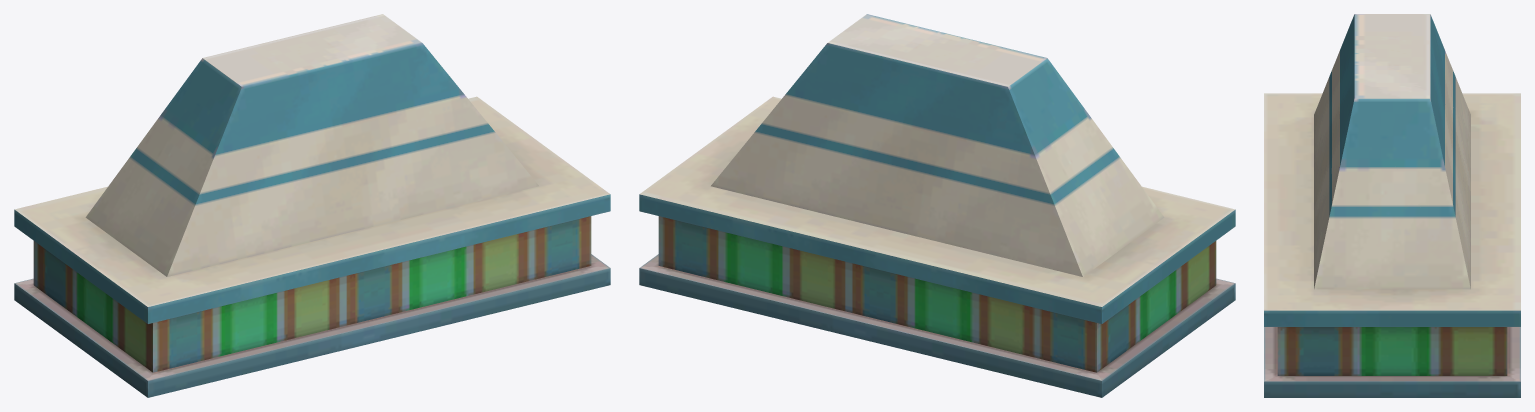
The model's file is furni_0200619_03.FBX.
The picture shows the model from 3 angles, left to right: view 1: azimuth 30°, elevation 25°; view 2: azimuth 150°, elevation 25°; view 3: azimuth 270°, elevation 25°; orthographic projection. The views are drawn at different scales.
Visible parts, largest first — view 1: furni_0200619_03; view 2: furni_0200619_03; view 3: furni_0200619_03.
Boxes of the visible parts, x1,y1,x2,y2 form: furni_0200619_03: (14,14,610,397); furni_0200619_03: (639,14,1235,397); furni_0200619_03: (1264,14,1520,397).
Size of the model in its own units: 160 by 80.03 by 80.
Materials: 1 (1 with a texture image).
